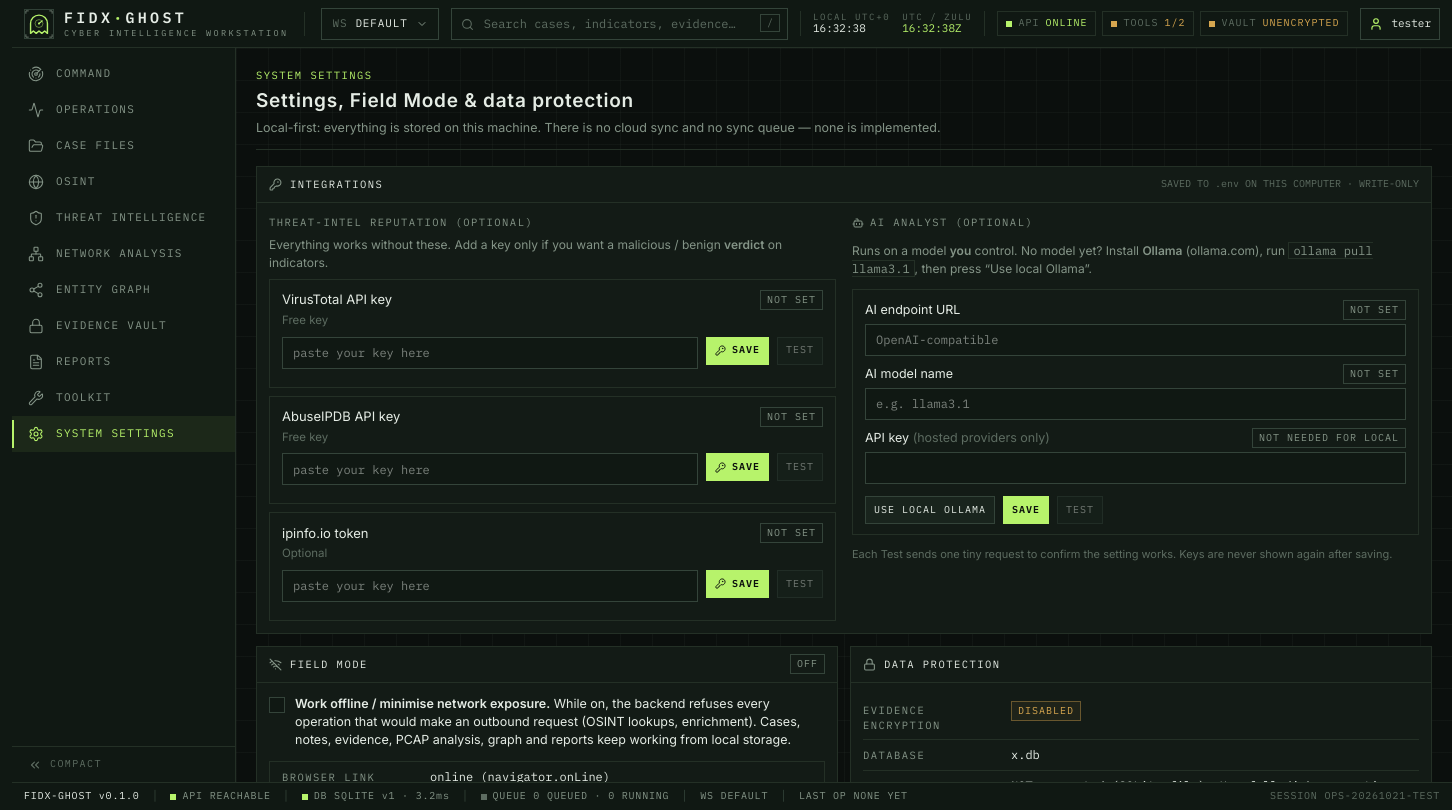
Test: Integrations (Settings) › 'Use local Ollama' pre-fills the endpoint and model
Click the button "Use local Ollama". click: (930, 510)
box: 865,496 -> 995,524
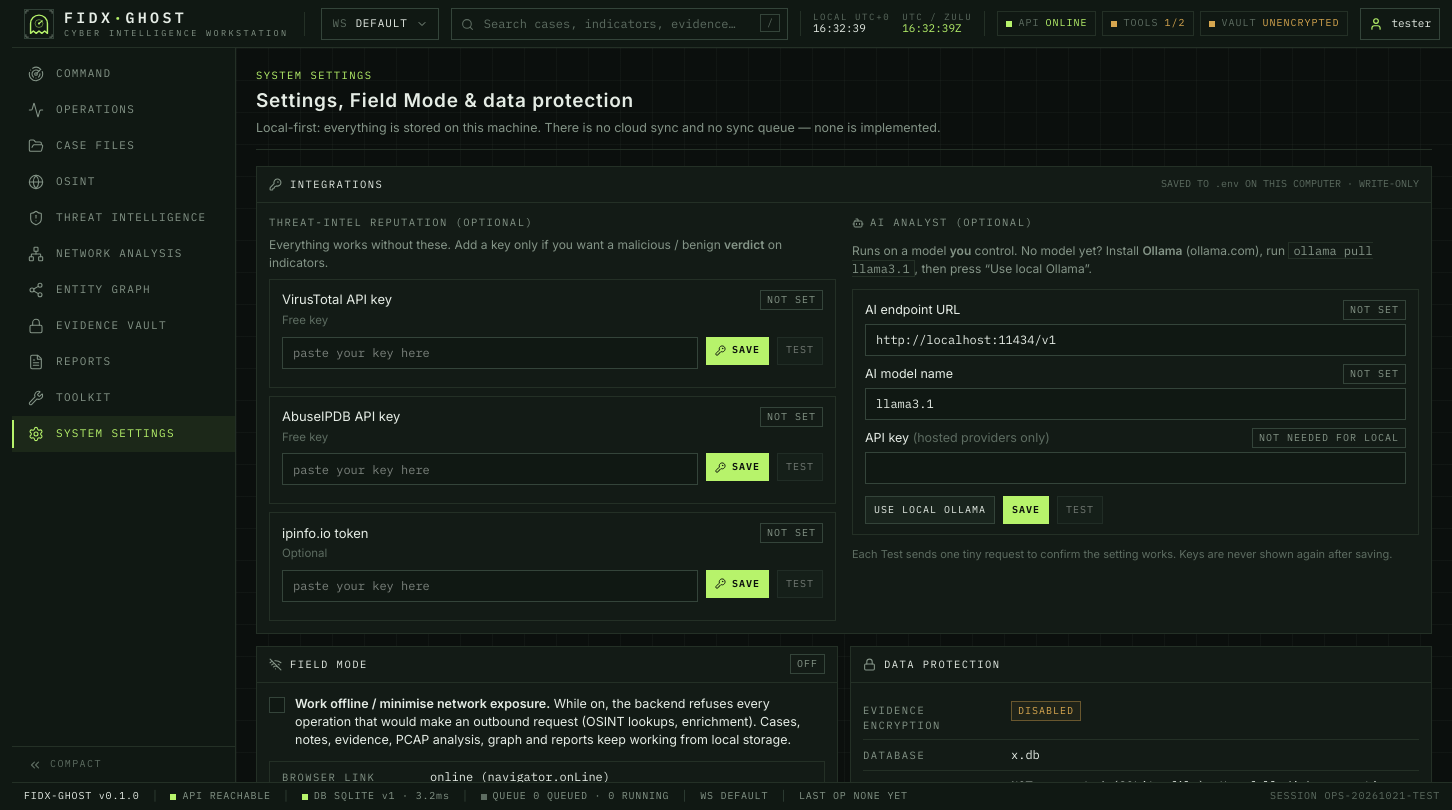
Check: the field labelled "AI endpoint URL" holds "http://localhost:11434/v1", box 865,324 -> 1406,356
Check: the field labelled "AI model name" holds "llama3.1", box 865,388 -> 1406,420
